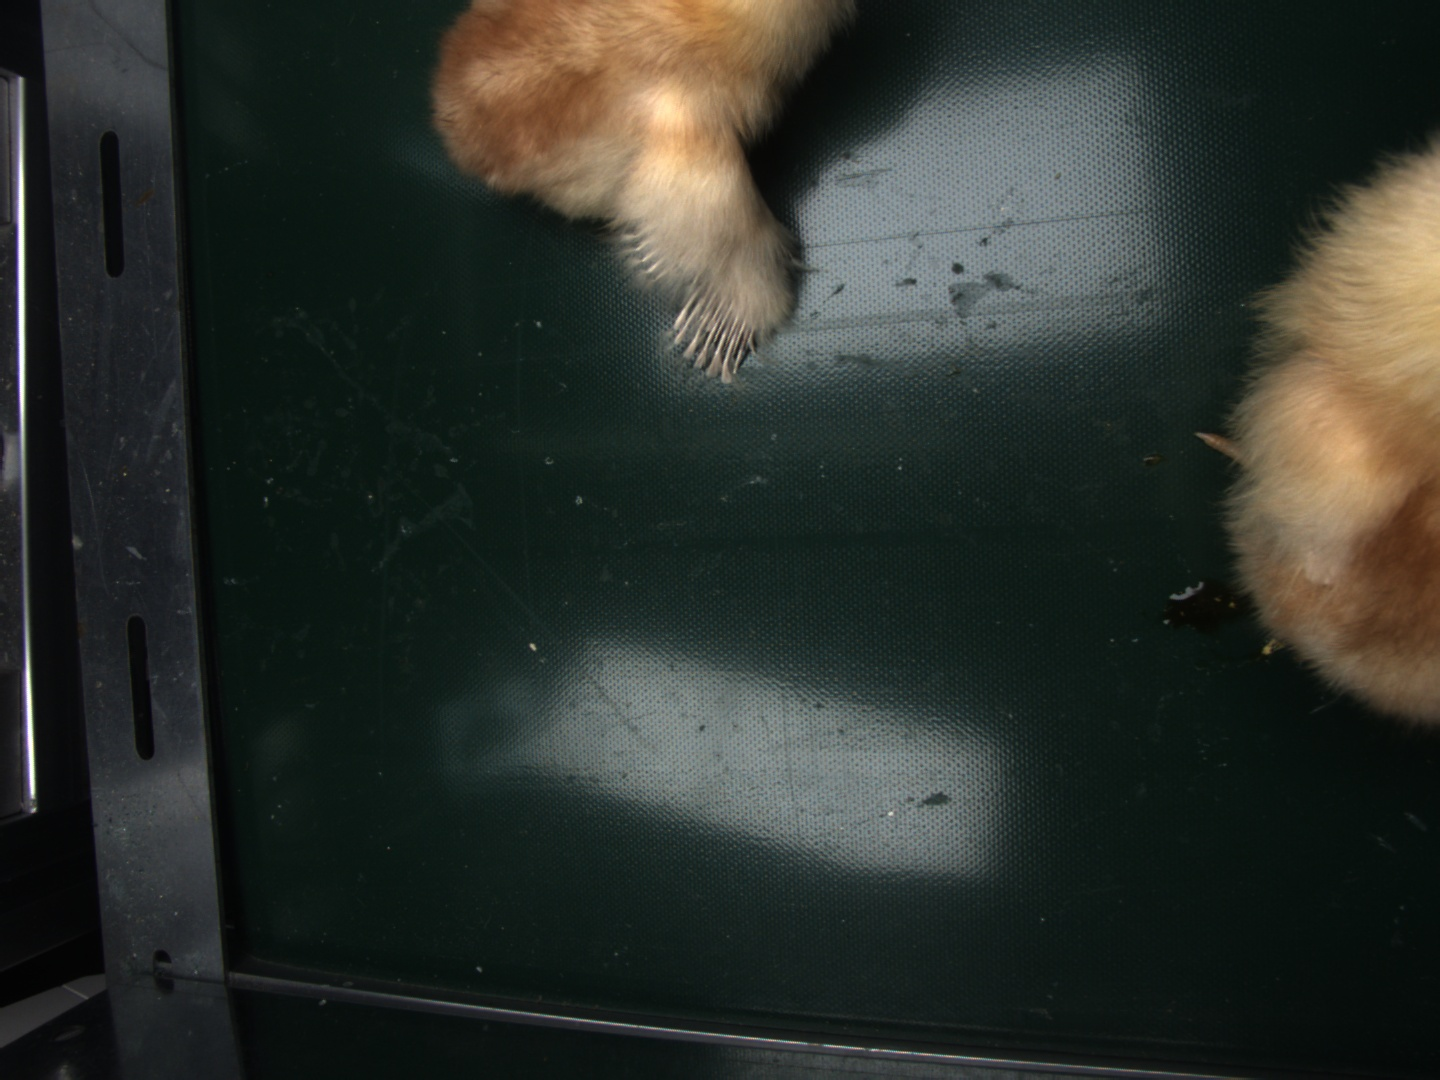female: (671, 294, 759, 380)
